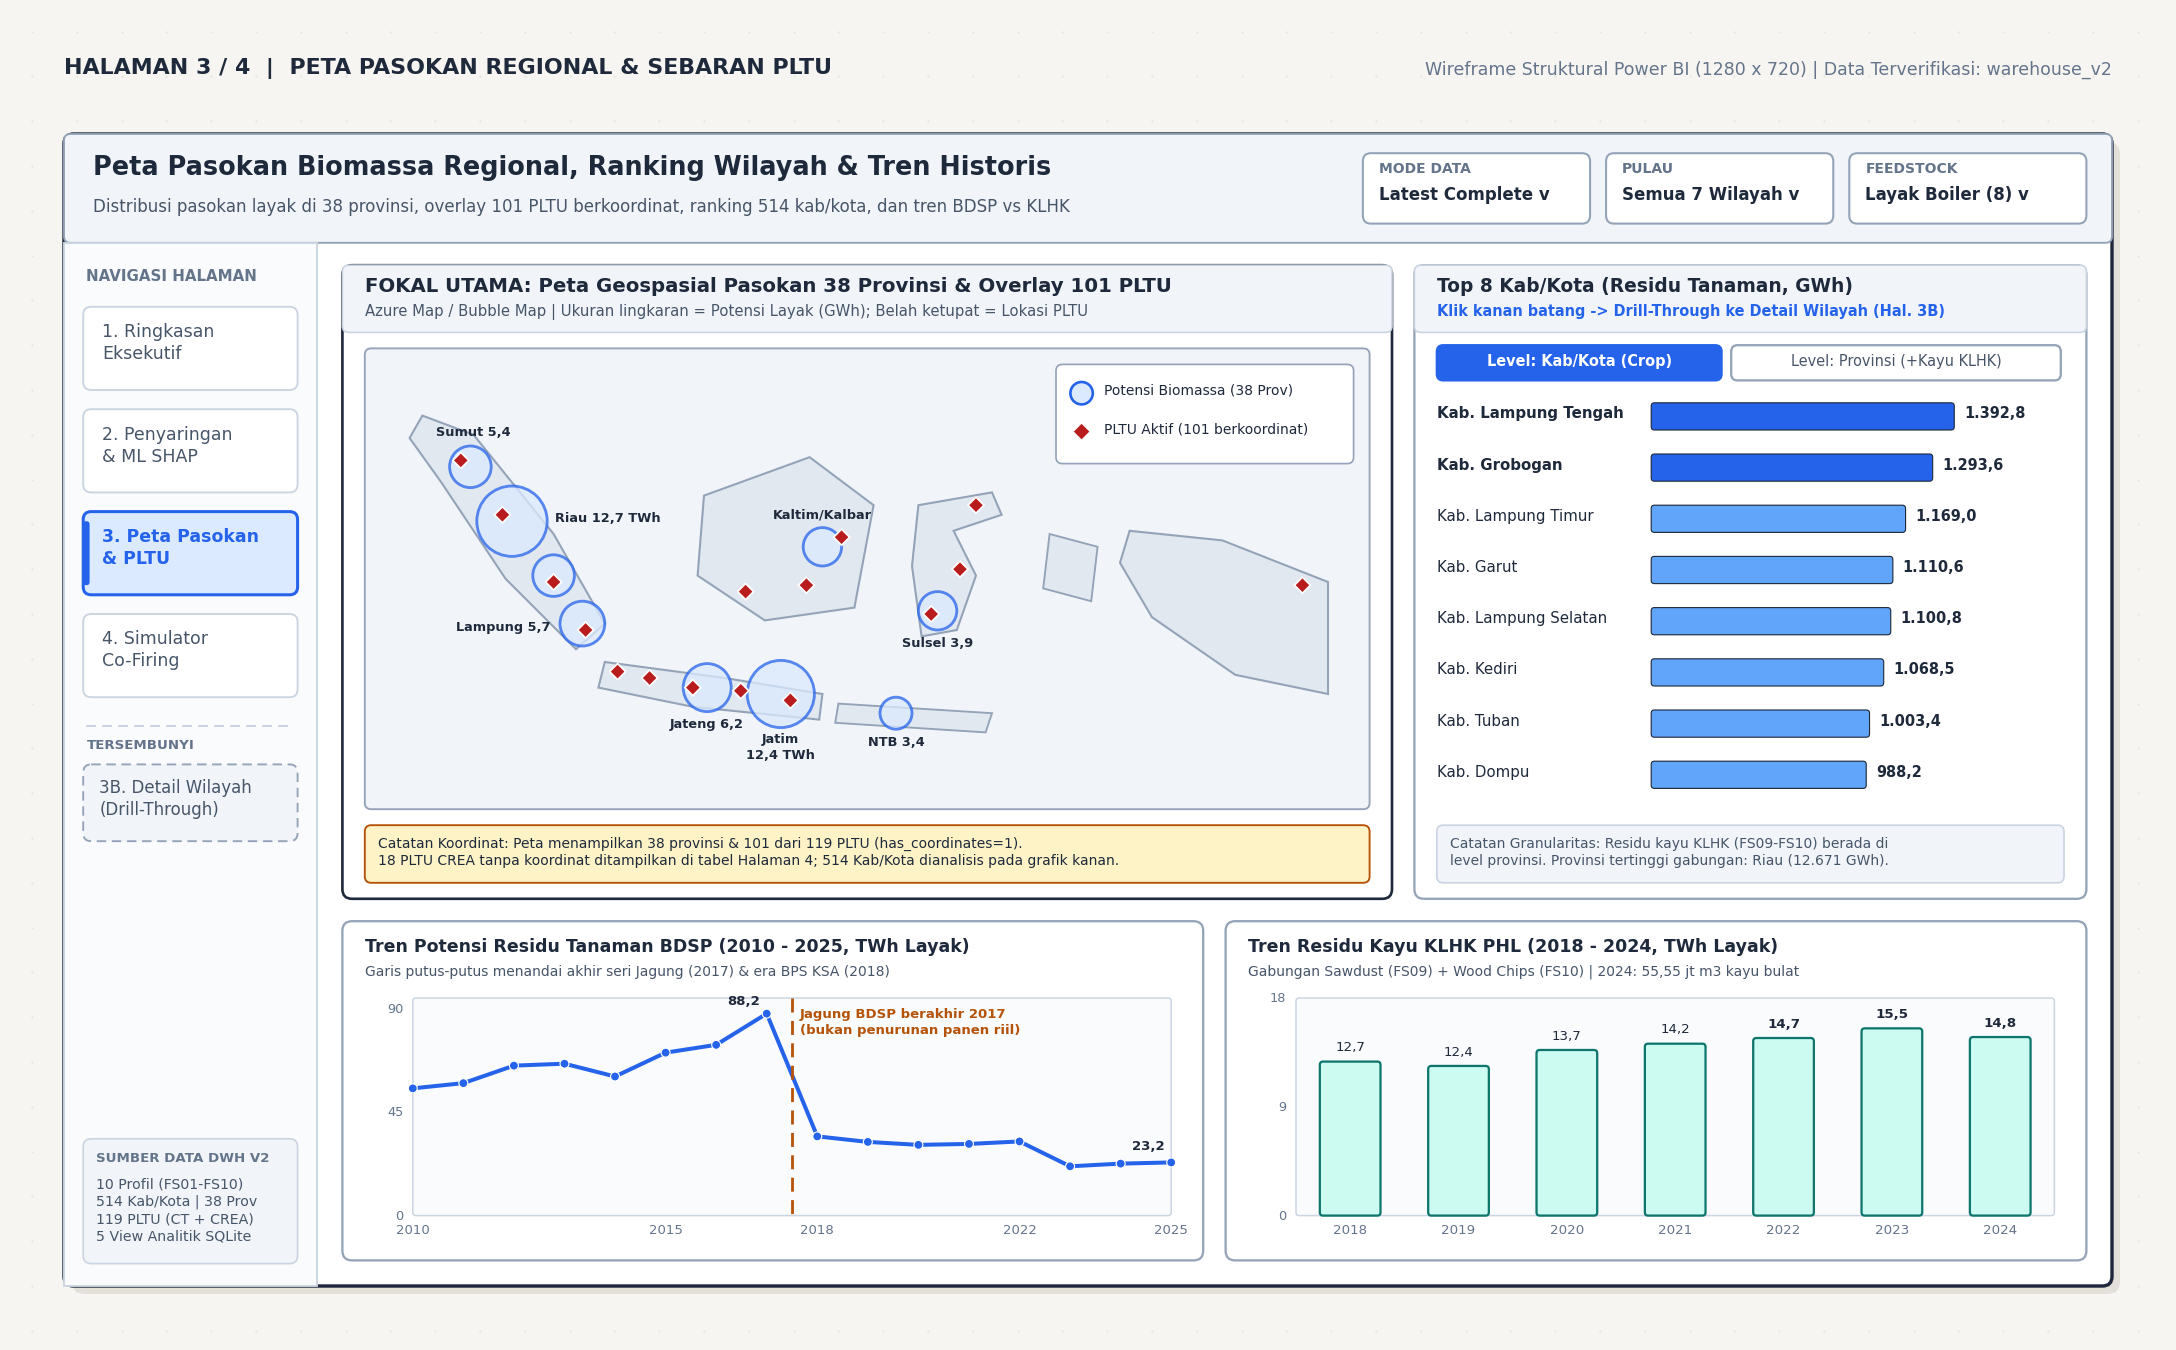

Layout of this report page (visuals, bound fields, positions):
{"tool":"powerbi","page":{"name":"Peta Pasokan & PLTU","canvas":[1280,720],"ordinal":2},"visuals":[{"type":"slicer","fields":{"Values":["dim_location.pulau"]},"box":[633,0,200,78],"z":0},{"type":"slicer","fields":{"Values":["dim_conversion_tech.tech_name"]},"box":[852.1,0,199.9,78.2],"z":1000},{"type":"slicer","fields":{"Values":["dim_view_mode.view_mode_label"]},"box":[1068.9,0,210.8,78.2],"z":2000},{"type":"pageNavigator","box":[0,115.7,200,397.1],"z":3000},{"type":"shape","box":[1.1,0,1278.9,104],"z":4000},{"type":"slicer","box":[633.3,16.7,200,70],"z":5000},{"type":"slicer","box":[1068.9,16.7,200,70],"z":7000},{"type":"clusteredBarChart","title":"Top 15 Regencies & Cities by Biomass Potential","fields":{"Category":["dim_location.nama_kabkota"],"Y":["_Measures.Eligible Generation (GWh)"]},"box":[703,114.6,576,354.1],"z":8000},{"type":"map","title":"Provincial Wood Residue Potential (GWh)","fields":{"X":["dim_location.longitude_centroid"],"Y":["dim_location.latitude_centroid"],"Size":["_Measures.Eligible Generation (GWh)"]},"box":[206.5,191,488.3,277.7],"z":9000},{"type":"bookmarkNavigator","box":[206.9,116.3,488.1,74.4],"z":11000},{"type":"lineChart","title":"Crop Biomass Potential Trend (2010-2025)","fields":{"Category":["dim_time.year"],"Y":["_Measures.Tren Potensi Tanaman BDSP Layak (TWh)"]},"box":[206.5,468.6,534.7,251.9],"z":12000},{"type":"clusteredColumnChart","title":"Wood Residue Potential Trend (2018-2024)","fields":{"Y":["_Measures.Tren Potensi Kayu KLHK Layak (TWh)"],"Category":["dim_time.year"]},"box":[746.3,468.6,532.6,252.9],"z":13000},{"type":"textbox","box":[0,513,200,207],"z":14000},{"type":"textbox","box":[16,17,608,70],"z":15000},{"type":"slicer","fields":{"Values":["dim_view_mode.view_mode_label"]},"box":[616,15,200,77],"z":16000},{"type":"slicer","fields":{"Values":["dim_conversion_tech.tech_name"]},"box":[833,15,200,77],"z":17000},{"type":"slicer","fields":{"Values":["dim_location.pulau"]},"box":[1048,15,210,77],"z":18000},{"type":"slicer","fields":{"Values":["dim_location.pulau"]},"box":[890,19,180,71],"z":18001}]}

Visuals, with their boxes on the page's 1280x720 design canvas (x1, y1, x2, y2). These are canvas units, not pixel positions in the 2176x1350 screenshot, which may show the page scaled, cropped or inside an application window:
slicer - dim_location.pulau: x1=633, y1=0, x2=833, y2=78
slicer - dim_conversion_tech.tech_name: x1=852, y1=0, x2=1052, y2=78
slicer - dim_view_mode.view_mode_label: x1=1069, y1=0, x2=1280, y2=78
pageNavigator: x1=0, y1=116, x2=200, y2=513
shape: x1=1, y1=0, x2=1280, y2=104
slicer: x1=633, y1=17, x2=833, y2=87
slicer: x1=1069, y1=17, x2=1269, y2=87
"Top 15 Regencies & Cities by Biomass Potential" clusteredBarChart: x1=703, y1=115, x2=1279, y2=469
"Provincial Wood Residue Potential (GWh)" map: x1=206, y1=191, x2=695, y2=469
bookmarkNavigator: x1=207, y1=116, x2=695, y2=191
"Crop Biomass Potential Trend (2010-2025)" lineChart: x1=206, y1=469, x2=741, y2=720
"Wood Residue Potential Trend (2018-2024)" clusteredColumnChart: x1=746, y1=469, x2=1279, y2=722
textbox: x1=0, y1=513, x2=200, y2=720
textbox: x1=16, y1=17, x2=624, y2=87
slicer - dim_view_mode.view_mode_label: x1=616, y1=15, x2=816, y2=92
slicer - dim_conversion_tech.tech_name: x1=833, y1=15, x2=1033, y2=92
slicer - dim_location.pulau: x1=1048, y1=15, x2=1258, y2=92
slicer - dim_location.pulau: x1=890, y1=19, x2=1070, y2=90
